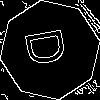D: (25, 25, 76, 68)
